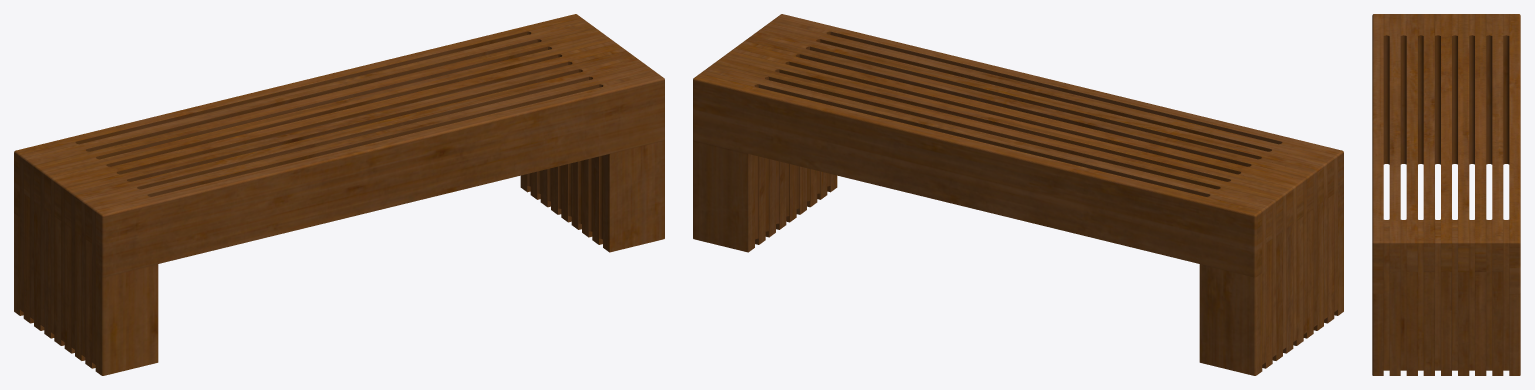
File: bench_3.fbx
The picture shows the model from 3 angles, left to right: view 1: azimuth 30°, elevation 25°; view 2: azimuth 150°, elevation 25°; view 3: azimuth 270°, elevation 25°; orthographic projection. The views are drawn at different scales.
Visible parts, largest first — view 1: bench_3; view 2: bench_3; view 3: bench_3.
Part boxes in pixels (x1,y1,x2,y2): bench_3: [14, 14, 664, 375]; bench_3: [693, 14, 1343, 375]; bench_3: [1372, 14, 1520, 375].
Size of the model in its own units: 196 by 53.49 by 53.71.
1 material, 1 textured.
